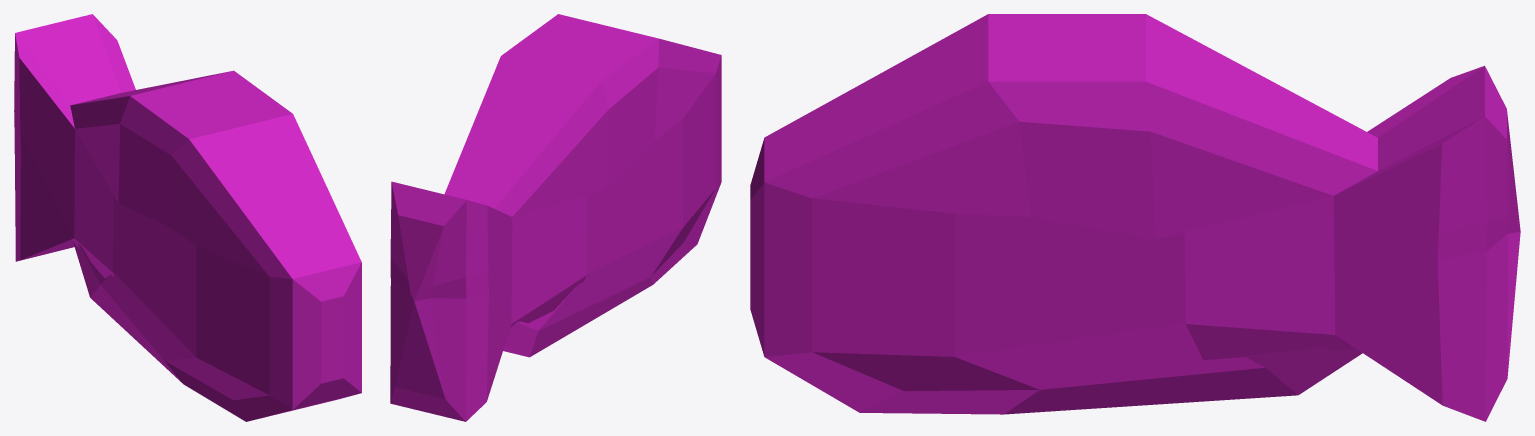
The model's file is fish1.obj.
3 views of the same model, side by side, from view 1: azimuth 30°, elevation 25°; view 2: azimuth 150°, elevation 25°; view 3: azimuth 270°, elevation 25° (orthographic). The views are drawn at different scales.
Parts seen in each view (by area): view 1: Cube; view 2: Cube; view 3: Cube.
Part boxes in pixels (x1=…): Cube: x1=14, y1=14, x2=361, y2=421; Cube: x1=390, y1=14, x2=721, y2=421; Cube: x1=750, y1=14, x2=1520, y2=421.
Bounding box in the file's own units: 1.02 × 2.1 × 4.2.
